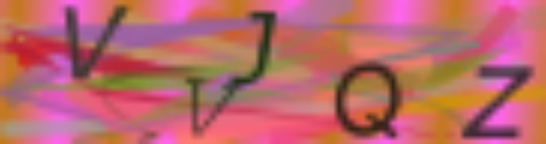J: (231, 8, 281, 93)
Q: (330, 59, 410, 141)
V: (54, 2, 135, 82), (184, 72, 241, 139)
Z: (455, 62, 540, 144)
